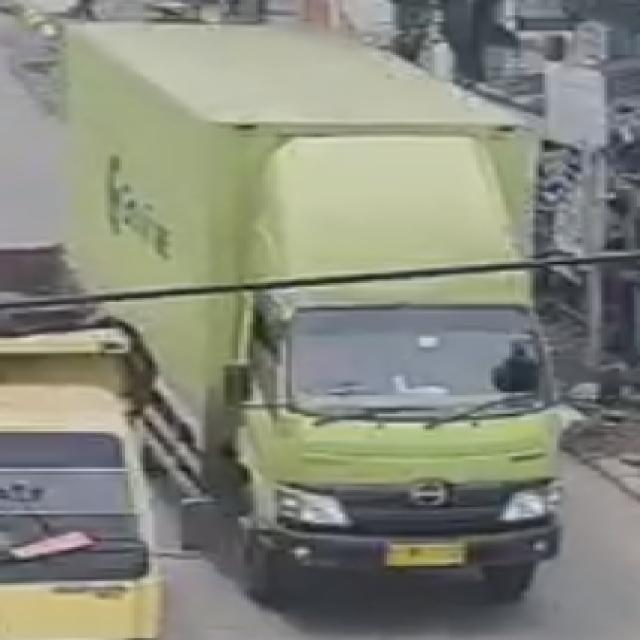Truck: (182, 65, 622, 620)
